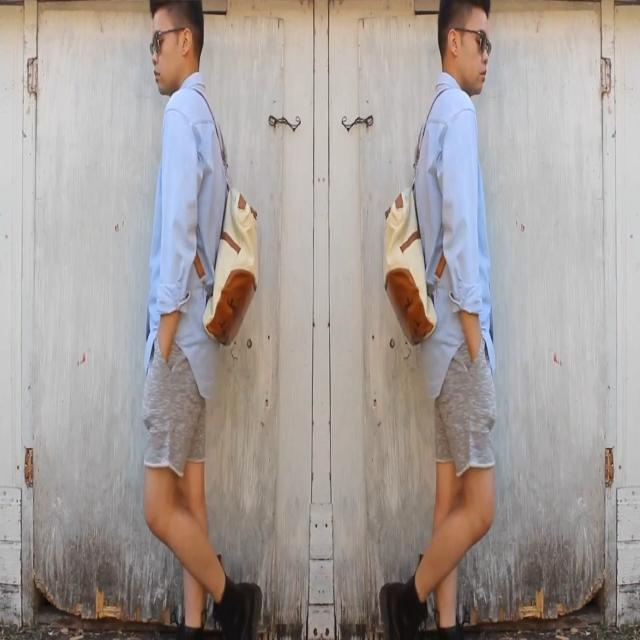shirt: (144, 69, 227, 402), (415, 69, 496, 402)
